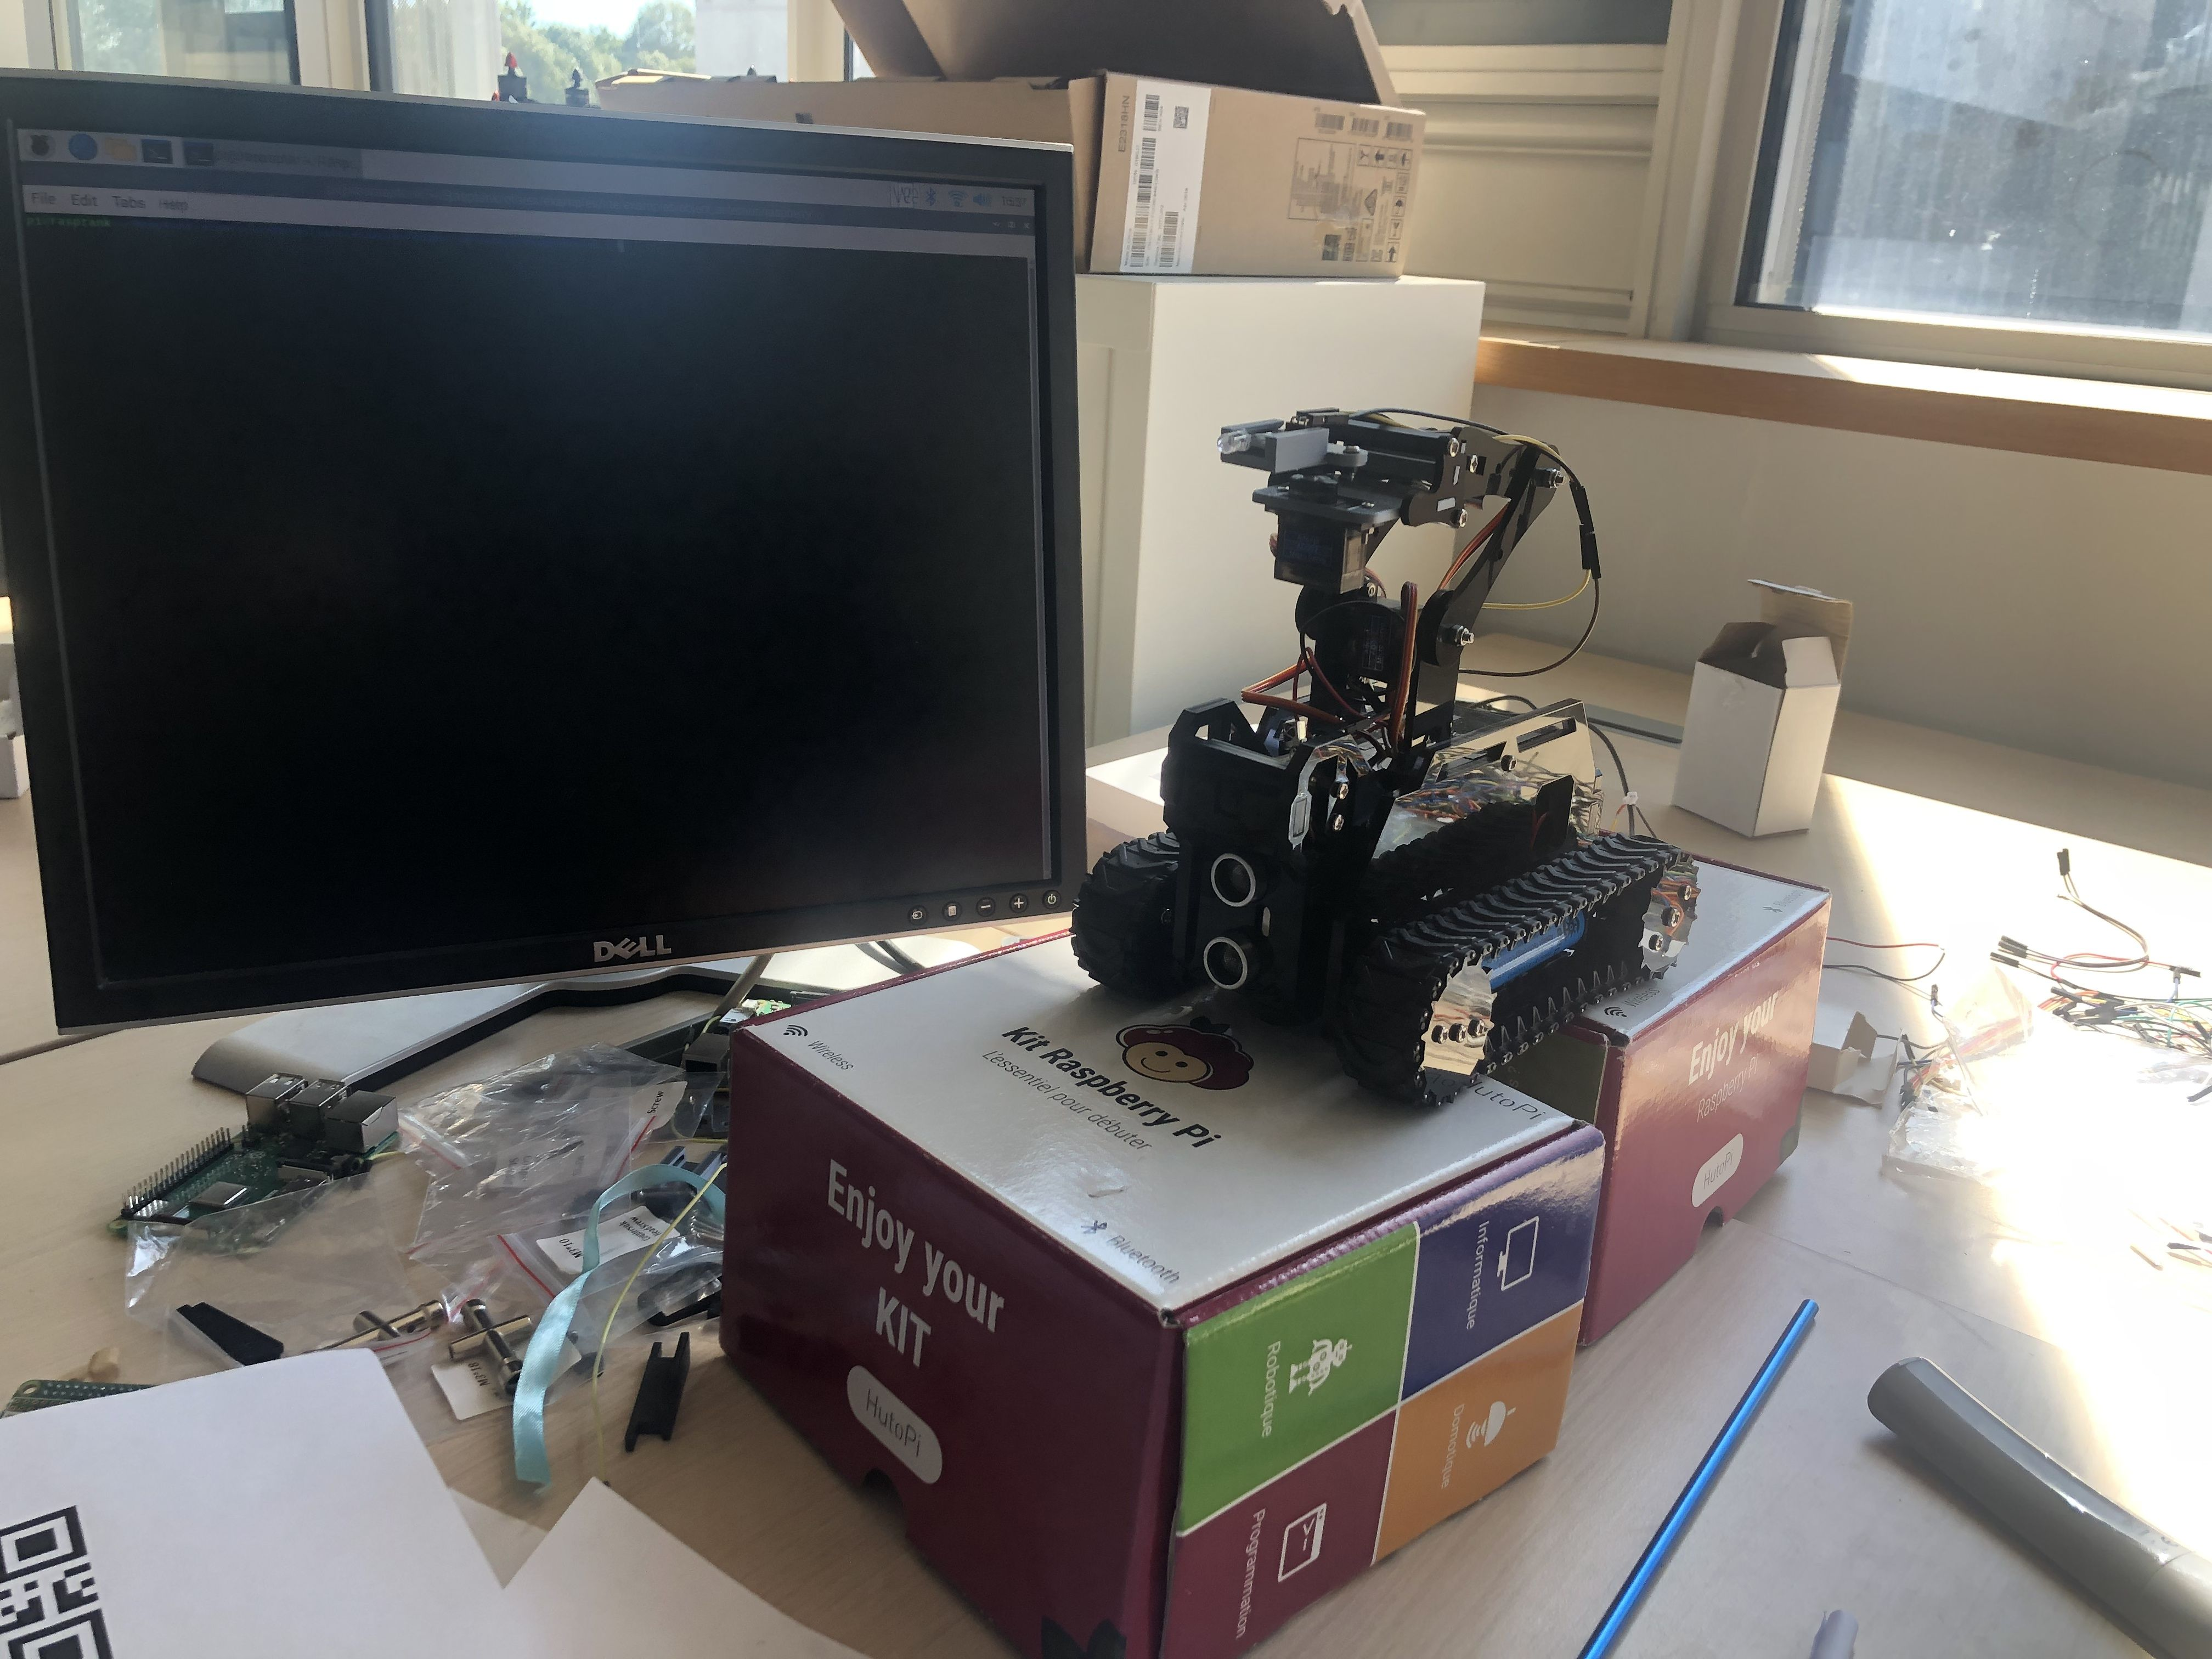rasptank: (1068, 401, 1709, 1112)
